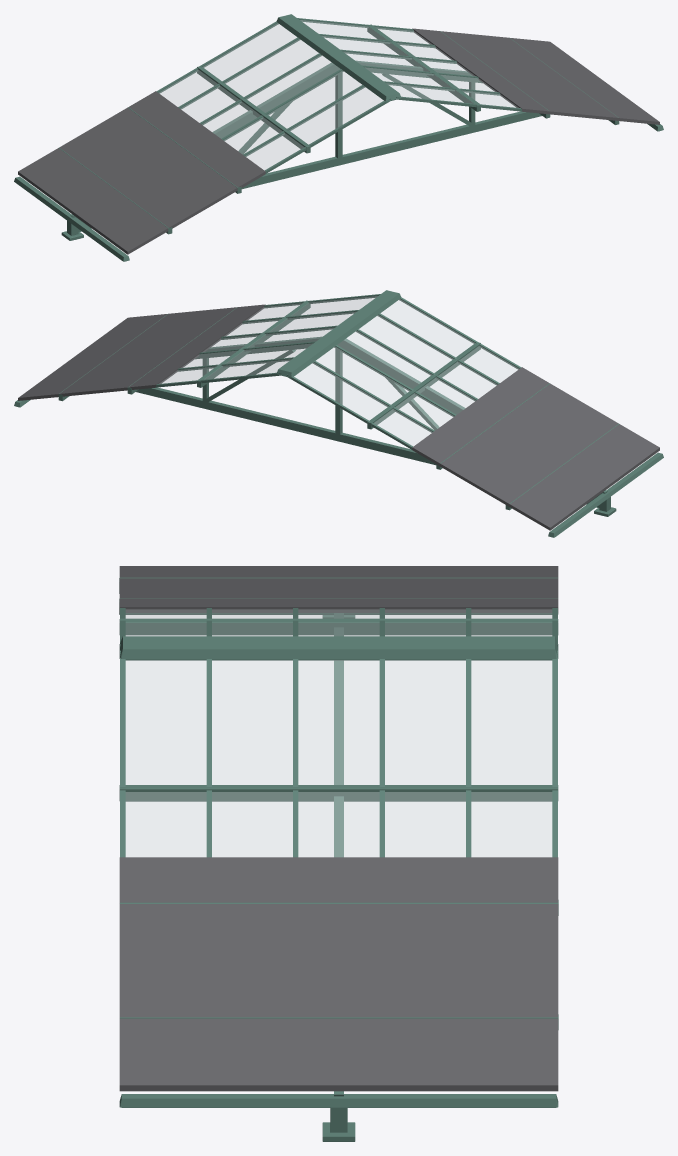
3 renders of one model, top to bottom at view 1: azimuth 30°, elevation 25°; view 2: azimuth 150°, elevation 25°; view 3: azimuth 270°, elevation 25°, orthographic. The views are drawn at different scales.
Visible parts, largest first — view 1: roof-truss-bay; view 2: roof-truss-bay; view 3: roof-truss-bay.
Boxes of the visible parts, x1=… form: roof-truss-bay: x1=14, y1=14, x2=663, y2=261; roof-truss-bay: x1=14, y1=290, x2=663, y2=537; roof-truss-bay: x1=119, y1=566, x2=558, y2=1141.
Size of the model in its own units: 11.5 by 2.34 by 4.
